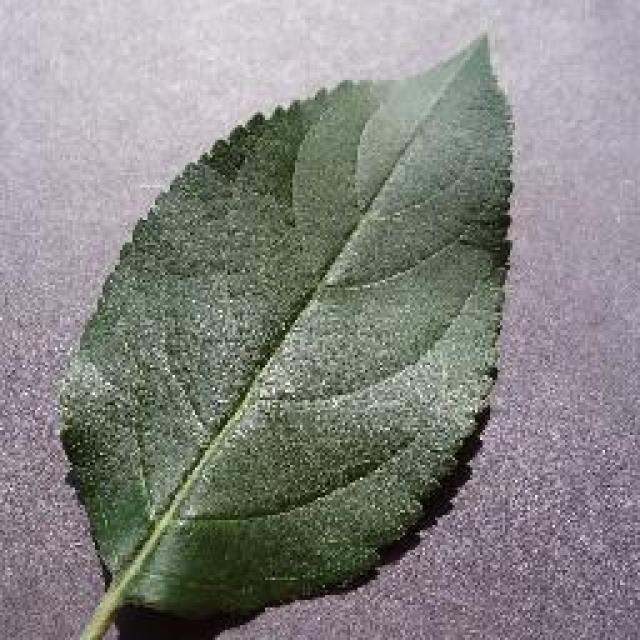apple healthy: (52, 25, 518, 630)
